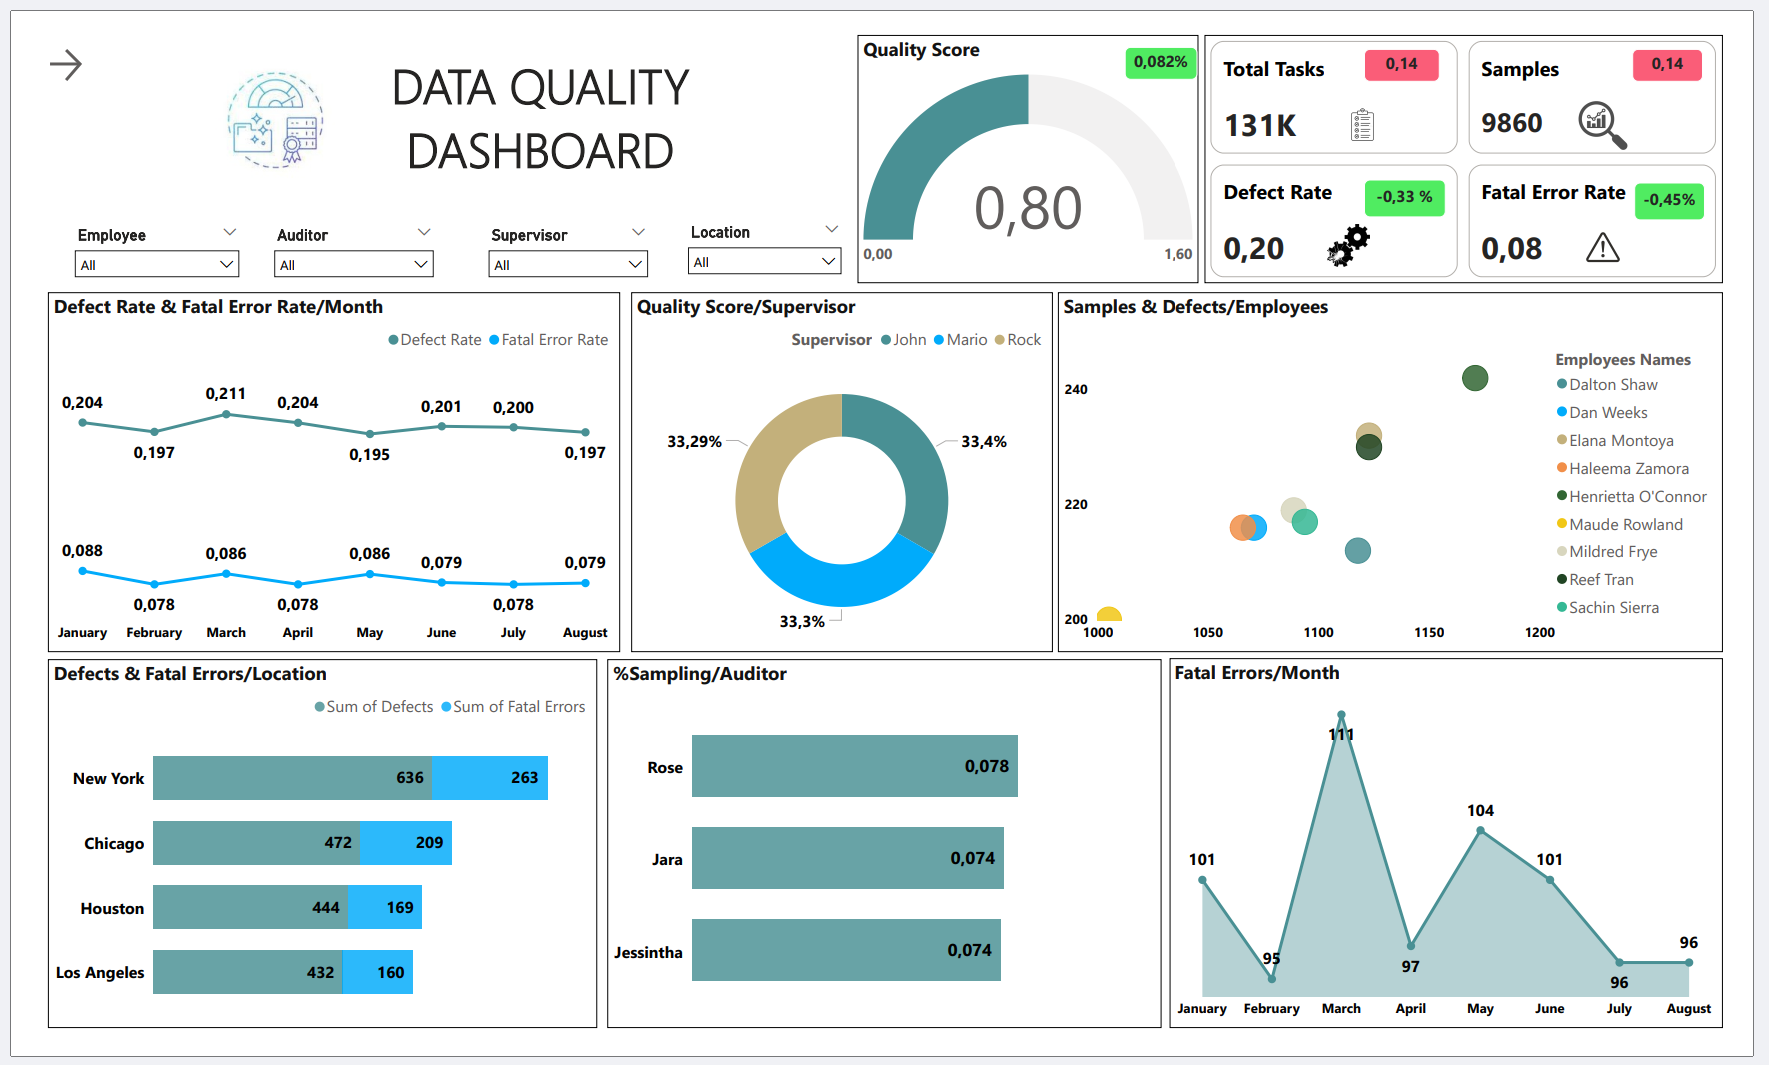

This screenshot's page, from the dashboard's own definition file:
{"tool":"powerbi","page":{"name":"Overview","canvas":[1700,1000],"ordinal":0},"visuals":[{"type":"donutChart","title":"Quality Score/Supervisor","fields":{"Category":["Emp Master.Supervisor"],"Y":["Quality Data.Quality Score"]},"box":[598.1,258.5,422.6,360.4],"z":0},{"type":"barChart","title":"%Sampling/Auditor","fields":{"Y":["Quality Data.Sampling Percentage"],"Category":["Auditors.Auditor Name"]},"box":[573.6,626.4,556.6,369.8],"z":1000},{"type":"scatterChart","title":"Samples & Defects/Employees","fields":{"X":["Quality Data.Samples"],"Y":["Quality Data.Defects"],"Series":["Emp Master.EMP Name"]},"box":[1026.4,258.5,667.9,360.4],"z":2000},{"type":"gauge","fields":{"Y":["Quality Data.Quality Score"]},"box":[824.5,0,343.4,249.1],"z":3000},{"type":"cardVisual","fields":{"Data":["Quality Data.Total Tasks","Quality Data.Samples","Quality Data.Defect Rate","Quality Data.Fatal Error Rate"]},"box":[1173.6,0,520.8,249.1],"z":4000},{"type":"card","fields":{"Values":["Quality Data.Latest MOM % Defect Rate"]},"box":[1334.5,144.8,81,37.9],"z":5000},{"type":"card","fields":{"Values":["Quality Data.Latest MOM % Fatal"]},"box":[1605.2,148.3,70.7,37.9],"z":6000},{"type":"areaChart","title":"Fatal Errors/Month","fields":{"Y":["Quality Data.Fatal Errors"],"Category":["Quality Data.Date.Variation.Date Hierarchy.Month"]},"box":[1137.7,624.5,556.6,371.7],"z":7000},{"type":"slicer","fields":{"Values":["Emp Master.EMP Name"]},"box":[30.3,186.5,185.2,68.5],"z":8000},{"type":"slicer","fields":{"Values":["Auditors.Auditor Name"]},"box":[230.3,186.5,179.6,68.5],"z":9000},{"type":"textbox","box":[332.8,12.1,348.3,148.3],"z":10000},{"type":"card","fields":{"Values":["Quality Data.Latest MOM % Tasks"]},"box":[1334.5,13.8,75.9,32.8],"z":11000},{"type":"card","fields":{"Values":["Quality Data.Latest MOM % Samples"]},"box":[1603.4,13.8,70.7,32.8],"z":12000},{"type":"card","fields":{"Values":["Quality Data.Latest MOM % Quality Score"]},"box":[1093.1,12.1,74.1,32.8],"z":13000},{"type":"image","box":[1293.1,58.6,79.3,63.8],"z":14000},{"type":"image","box":[1292.5,166,52.8,88.7],"z":15000},{"type":"image","box":[1541.5,183,62.3,58.5],"z":16000},{"type":"image","box":[1534.5,55.2,77.6,67.2],"z":17000},{"type":"lineChart","title":"Defect Rate & Fatal Error Rate/Month","fields":{"Category":["Quality Data.Date.Variation.Date Hierarchy.Month"],"Y":["Quality Data.Defect Rate","Quality Data.Fatal Error Rate"]},"box":[13.2,258.5,573.6,360.4],"z":18000},{"type":"barChart","title":"Defects & Fatal Errors/Location","fields":{"Category":["Emp Master.Work Location"],"Y":["Quality Data.Defects","Quality Data.Fatal Errors"]},"box":[13.2,626.4,550.9,369.8],"z":19000},{"type":"slicer","fields":{"Values":["Emp Master.Supervisor"]},"box":[445.1,186.5,179.6,68.5],"z":20000},{"type":"slicer","fields":{"Values":["Emp Master.Work Location"]},"box":[645.1,182.8,174.1,66.7],"z":21000},{"type":"image","box":[151.7,1.7,179.3,162.1],"z":22000},{"type":"actionButton","box":[0,0,60,61],"z":23000}]}

Visuals, with their boxes in screenshot pixels (x1, y1, x2, y2), scaled from the page's 1700x1000 canvas onto the 1769x1065 screenshot:
"Quality Score/Supervisor" donutChart: region(622, 275, 1062, 659)
"%Sampling/Auditor" barChart: region(597, 667, 1176, 1061)
"Samples & Defects/Employees" scatterChart: region(1068, 275, 1763, 659)
gauge - Quality Data.Quality Score: region(858, 0, 1215, 265)
cardVisual - Quality Data.Total Tasks x Quality Data.Samples: region(1221, 0, 1763, 265)
card - Quality Data.Latest MOM % Defect Rate: region(1389, 154, 1473, 195)
card - Quality Data.Latest MOM % Fatal: region(1670, 158, 1744, 198)
"Fatal Errors/Month" areaChart: region(1184, 665, 1763, 1061)
slicer - Emp Master.EMP Name: region(32, 199, 224, 272)
slicer - Auditors.Auditor Name: region(240, 199, 427, 272)
textbox: region(346, 13, 709, 171)
card - Quality Data.Latest MOM % Tasks: region(1389, 15, 1468, 50)
card - Quality Data.Latest MOM % Samples: region(1668, 15, 1742, 50)
card - Quality Data.Latest MOM % Quality Score: region(1137, 13, 1215, 48)
image: region(1346, 62, 1428, 130)
image: region(1345, 177, 1400, 271)
image: region(1604, 195, 1669, 257)
image: region(1597, 59, 1678, 130)
"Defect Rate & Fatal Error Rate/Month" lineChart: region(14, 275, 611, 659)
"Defects & Fatal Errors/Location" barChart: region(14, 667, 587, 1061)
slicer - Emp Master.Supervisor: region(463, 199, 650, 272)
slicer - Emp Master.Work Location: region(671, 195, 852, 266)
image: region(158, 2, 344, 174)
actionButton: region(0, 0, 62, 65)
